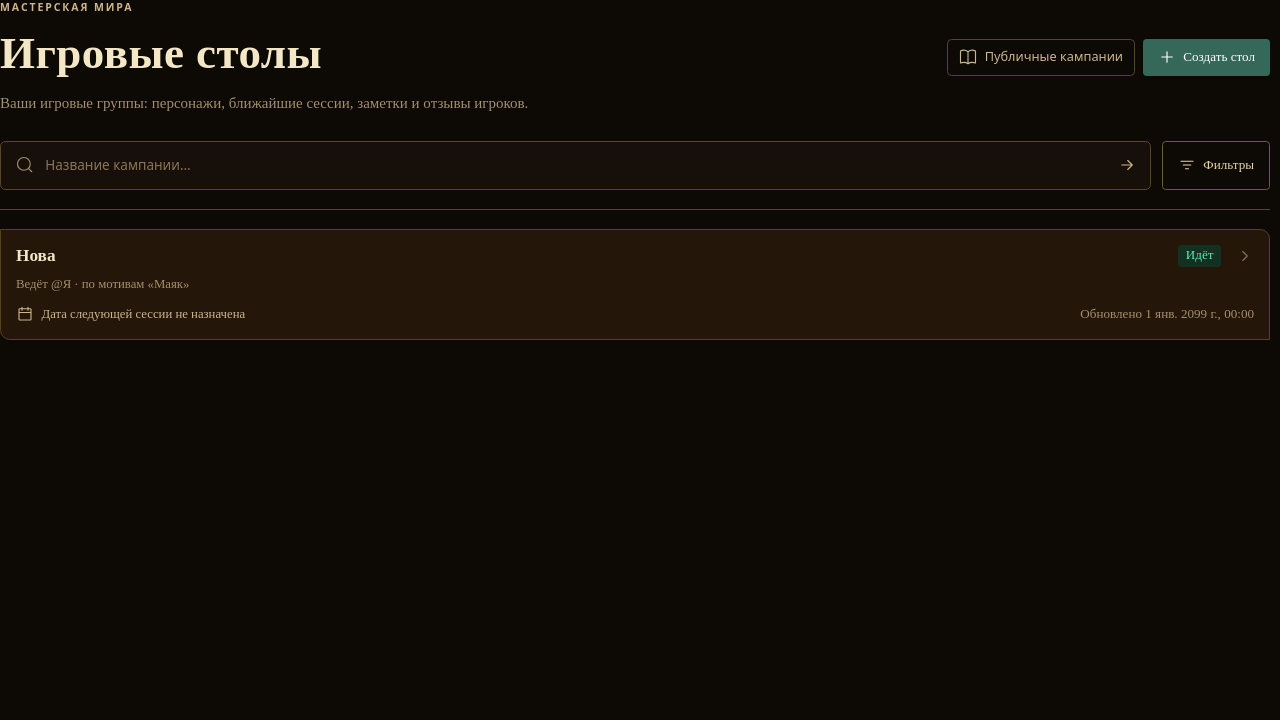
Test case: game tables (GM workspace) › never sends role together with the founder view of all campaigns
Click the button "Фильтры" at (1216, 165), box x1=1162 y1=141 x2=1270 y2=190
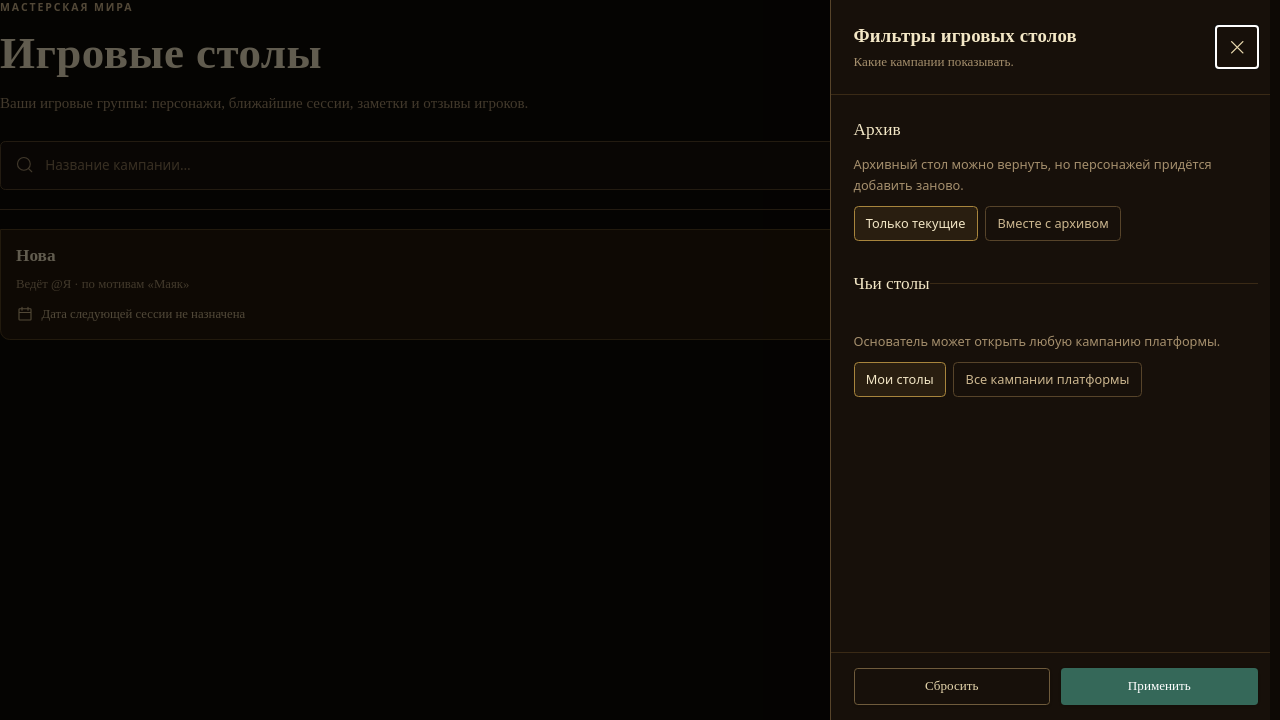
Click the button "Все кампании платформы" at (1048, 379), box x1=953 y1=362 x2=1142 y2=397
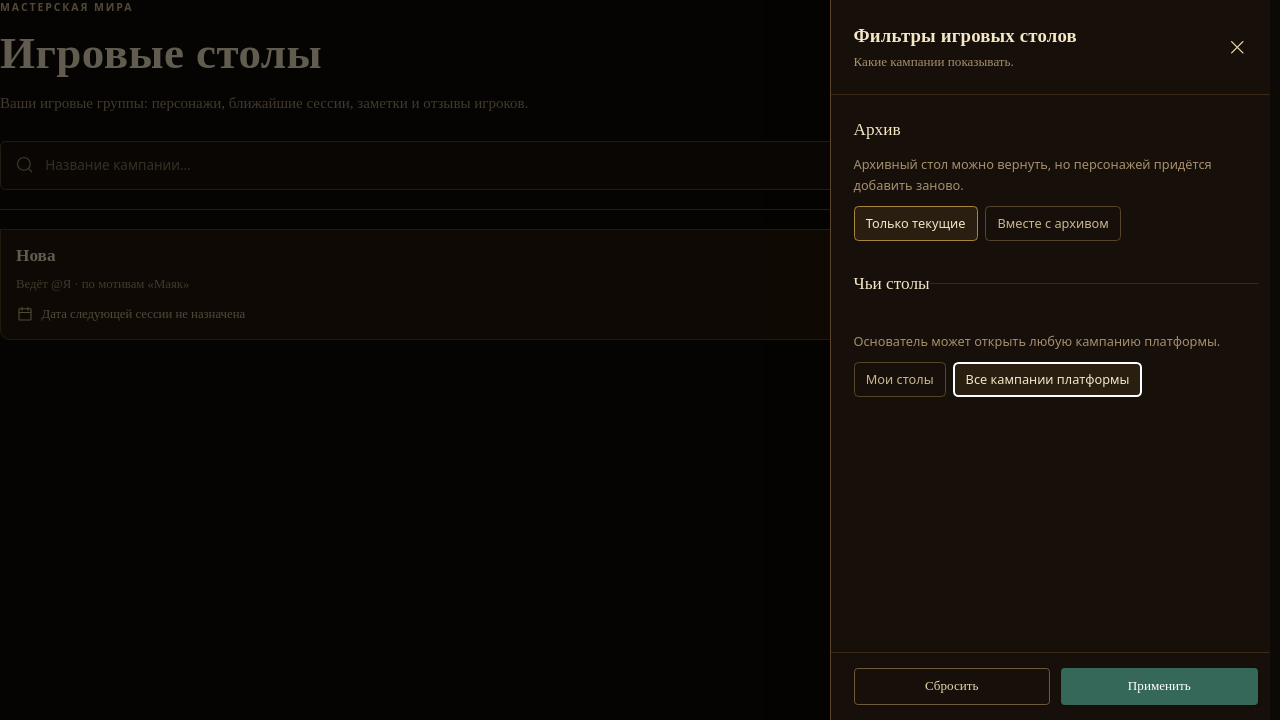
Click the button "Применить" at (1159, 686), box x1=1061 y1=668 x2=1258 y2=705
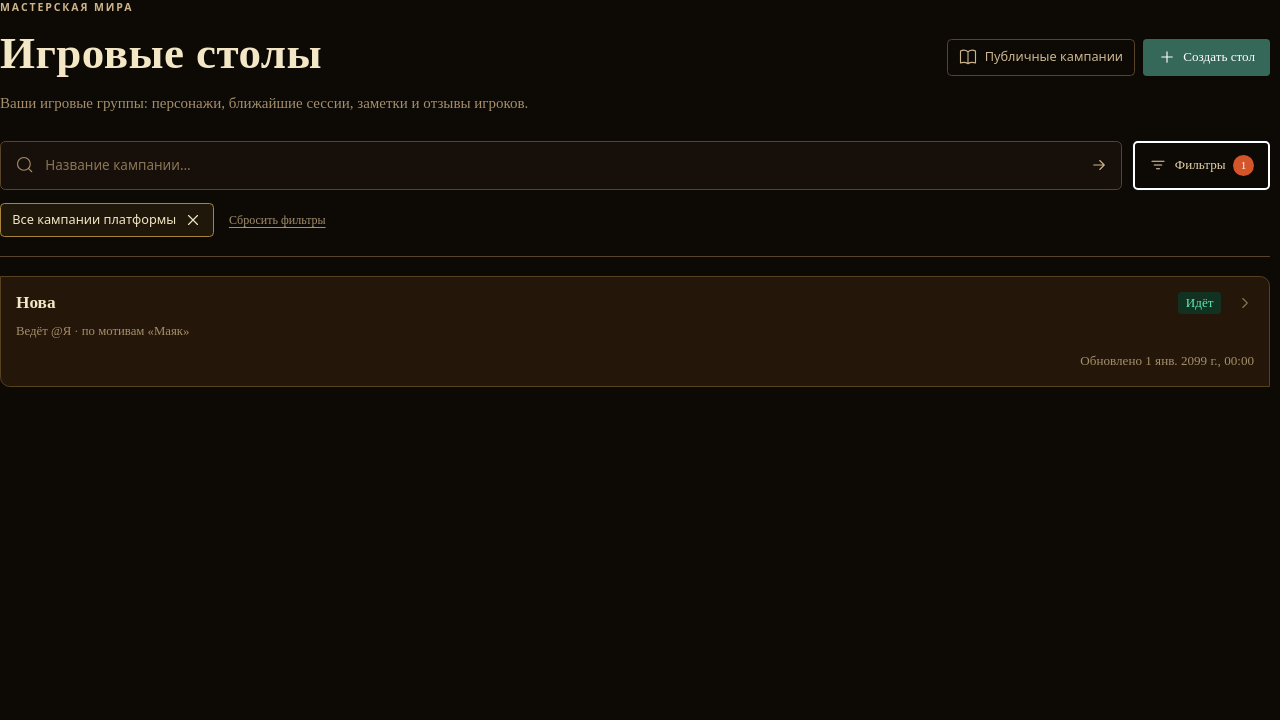
Expected: the link "Дата следующей сессии не назначена" is gone
